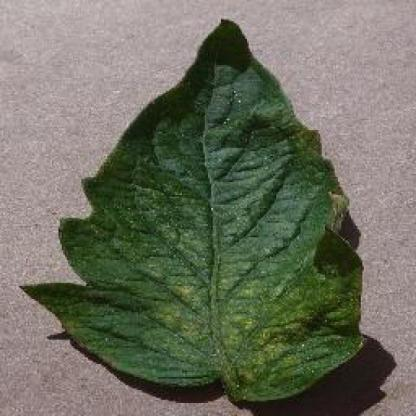Tomato_Spider_Mites: (22, 18, 363, 398)
